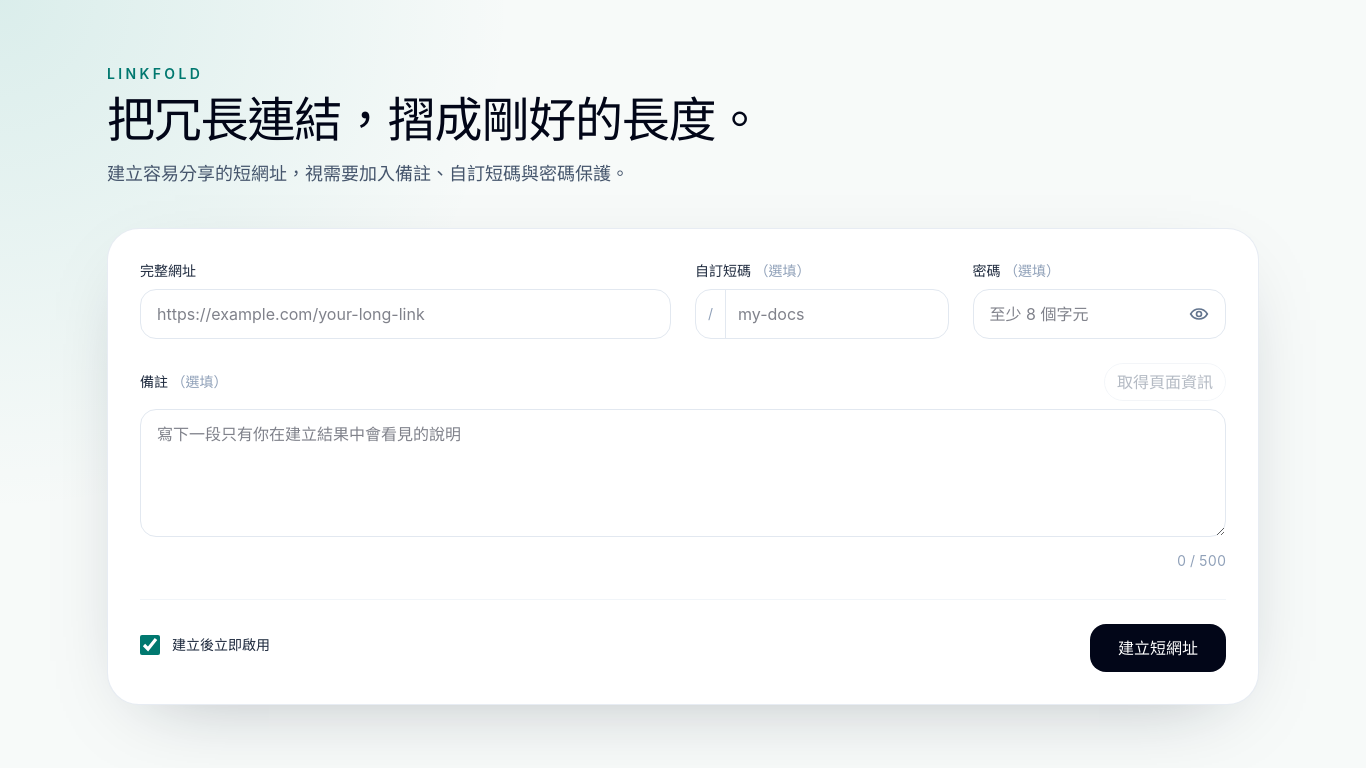
Test: CreateLinkView 表單 › 網址錯誤時不送出並 focus 第一個錯誤欄位
Type "not-a-url" into the field with id "original-url" at [406, 314], box [140,289,671,339]
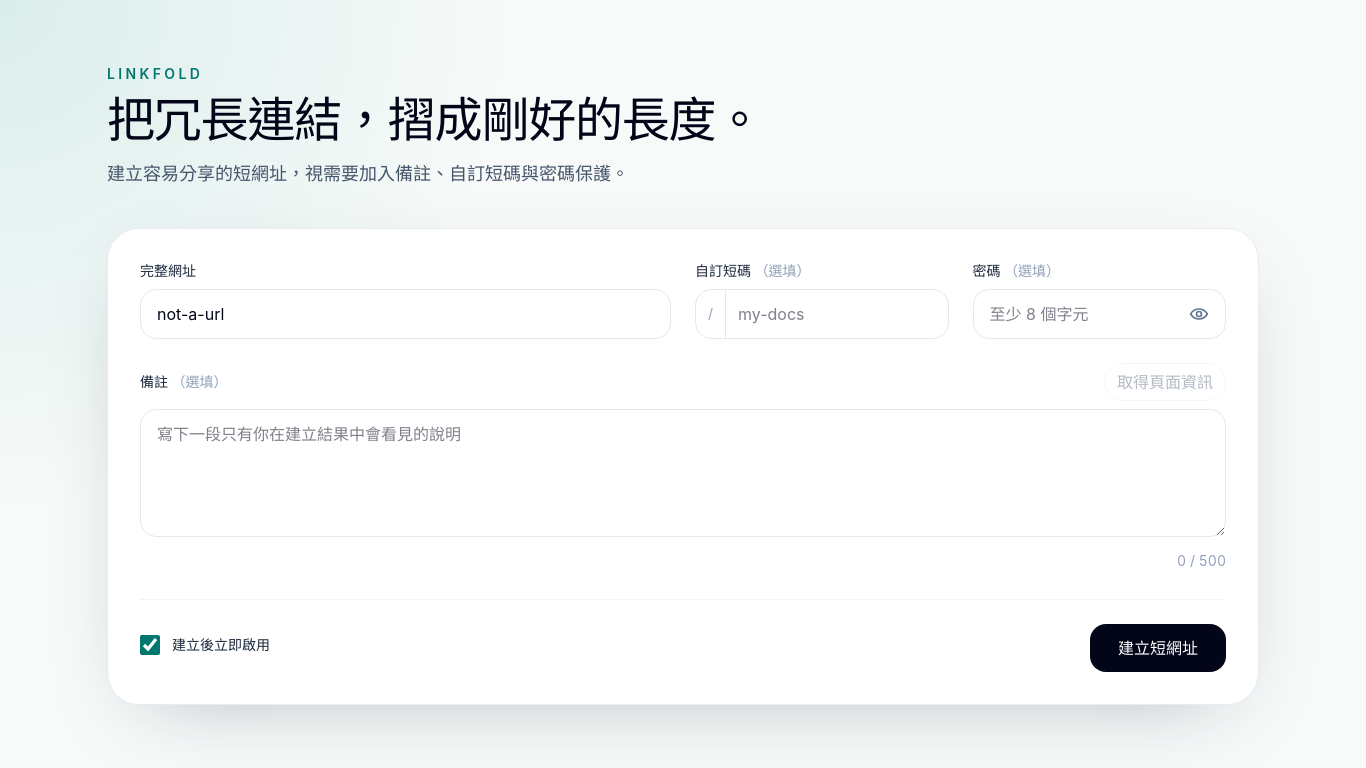
Submit the form, box [107,228,1259,705]
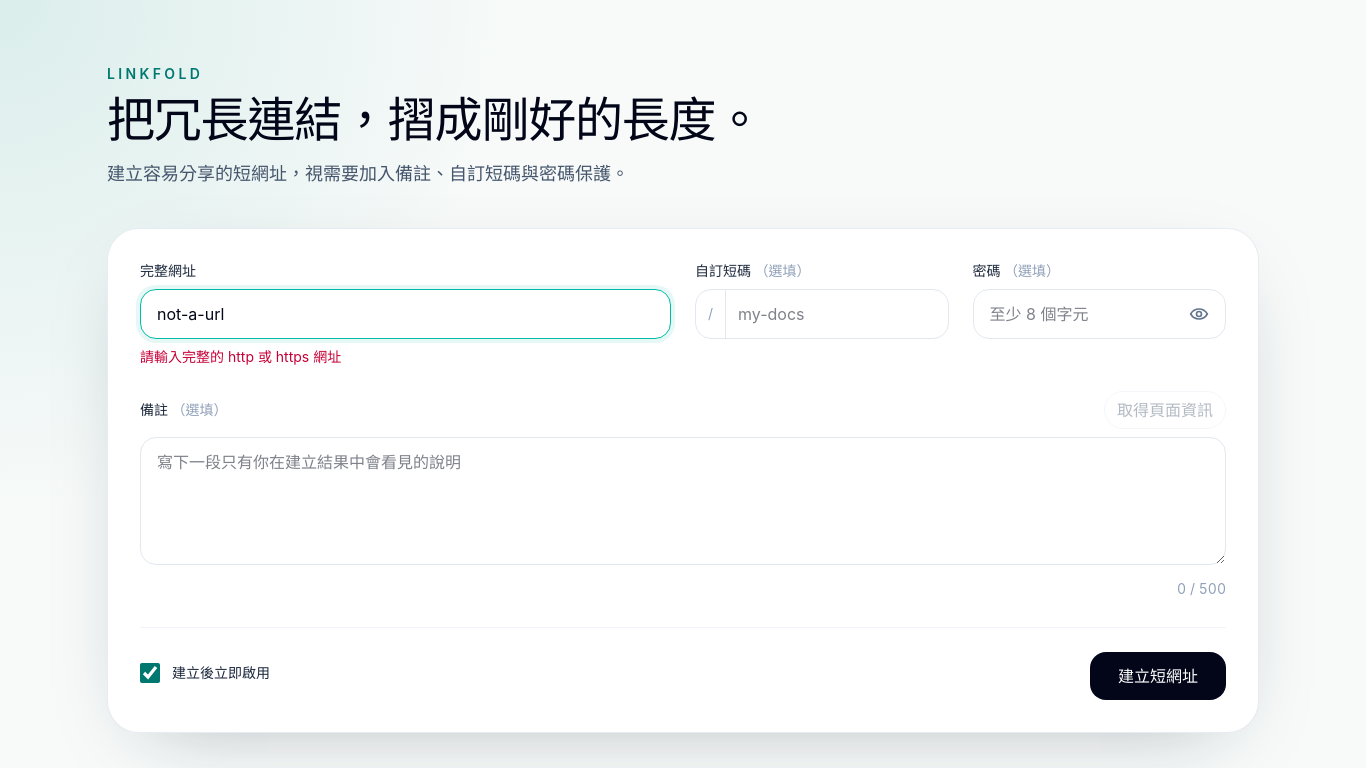
expect the text with id "original-url-error" shows "http": met, box [140,348,341,365]
